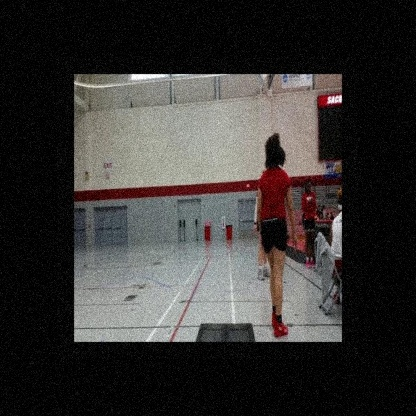lateral_flexion_left: (256, 131, 299, 342)
stance_width_narrow: (256, 164, 289, 342)
